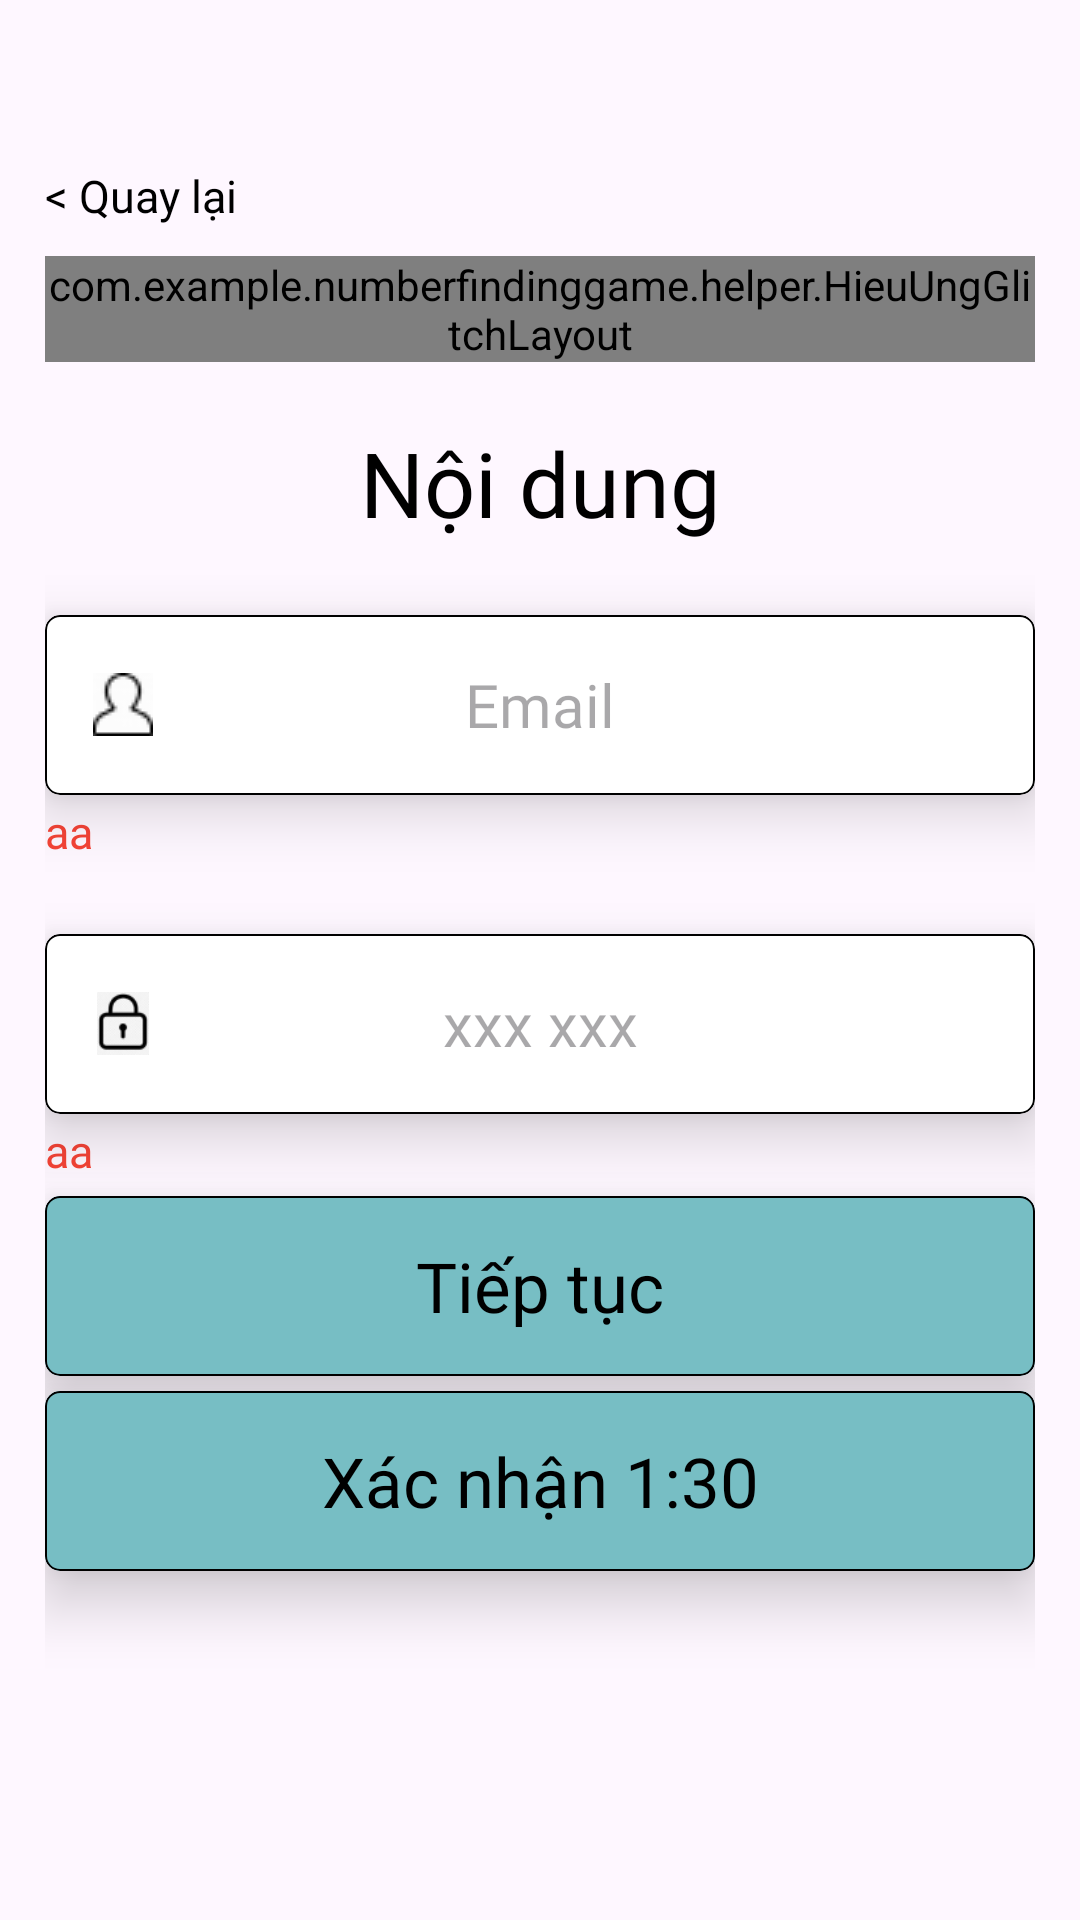

Screen size 1080 x 1920. Icon name, then its box in pixels as (x1, y1, x2, y2):
pass: (97, 992, 149, 1055)
user: (93, 673, 153, 736)
